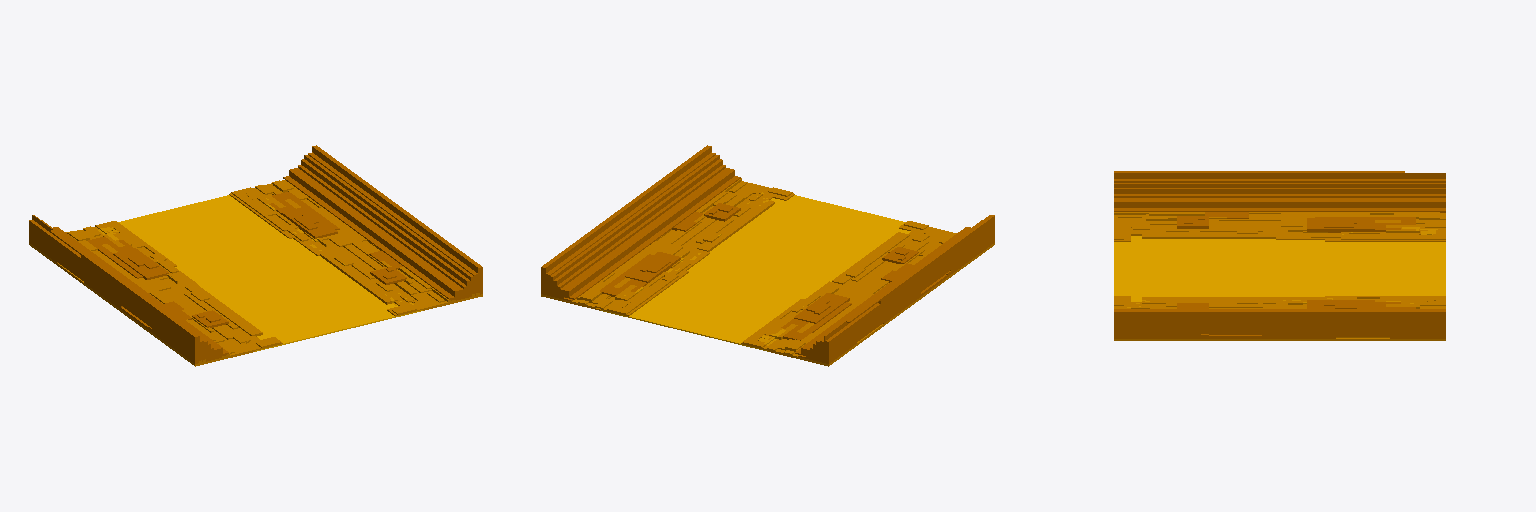
3 renders of one model, left to right at view 1: azimuth 30°, elevation 25°; view 2: azimuth 150°, elevation 25°; view 3: azimuth 270°, elevation 25°, orthographic.
Visible parts, largest first — view 1: object 1; view 2: object 1; view 3: object 1.
Part boxes in pixels (x1,y1,x2,y2): object 1: (29, 145, 482, 366); object 1: (541, 145, 994, 366); object 1: (1114, 171, 1445, 340).
Bounding box in the file's own units: 25.6 × 2.5 × 25.6.
Materials: 1 (1 with a texture image).